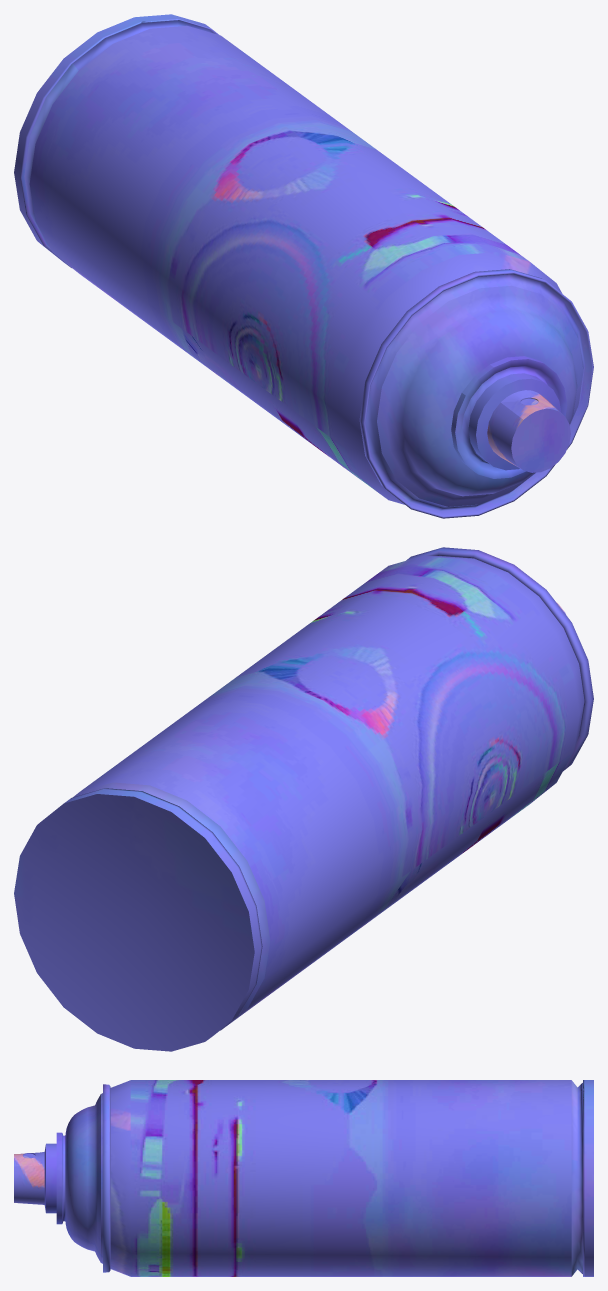
File: Spray_Paint.glb
3 views of the same model, one above another, from view 1: azimuth 30°, elevation 25°; view 2: azimuth 150°, elevation 25°; view 3: azimuth 270°, elevation 25° (orthographic). The views are drawn at different scales.
Parts seen in each view (by area): view 1: Spray_Paint; view 2: Spray_Paint; view 3: Spray_Paint.
Boxes of the visible parts, bbox=[...] form: Spray_Paint: bbox=[14, 14, 593, 518]; Spray_Paint: bbox=[14, 547, 593, 1051]; Spray_Paint: bbox=[14, 1080, 593, 1276].
Size of the model in its own units: 0.944 by 0.9439 by 2.76.
Materials: 1 (1 with a texture image).
